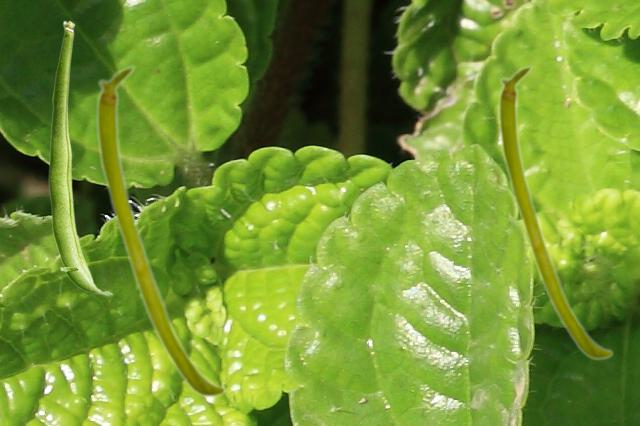french_bean: (95, 64, 226, 398), (497, 64, 613, 360), (48, 20, 113, 294)
